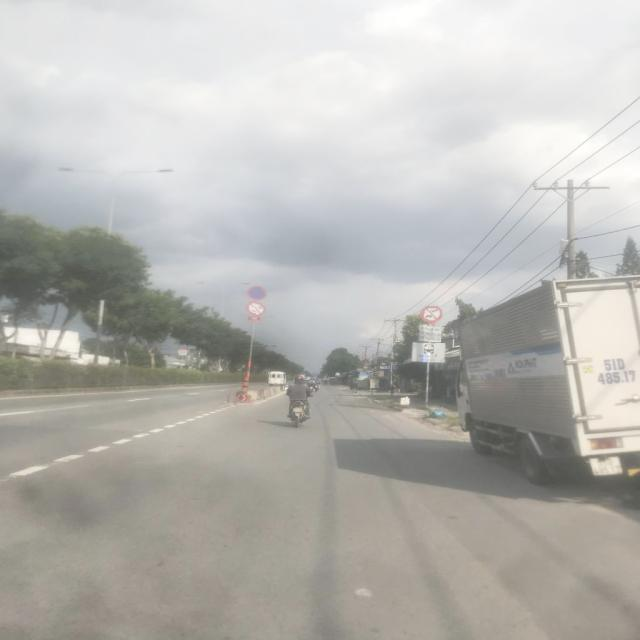cam_dung_xe_va_do_xe: (247, 286, 267, 300)
cam_o_to_tai_va_xe_khach: (420, 306, 442, 324)
cam_xe_2_banh_va_xe_3_banh_co_dong_co: (246, 301, 265, 316)
khac: (412, 343, 445, 362), (417, 324, 441, 342)
